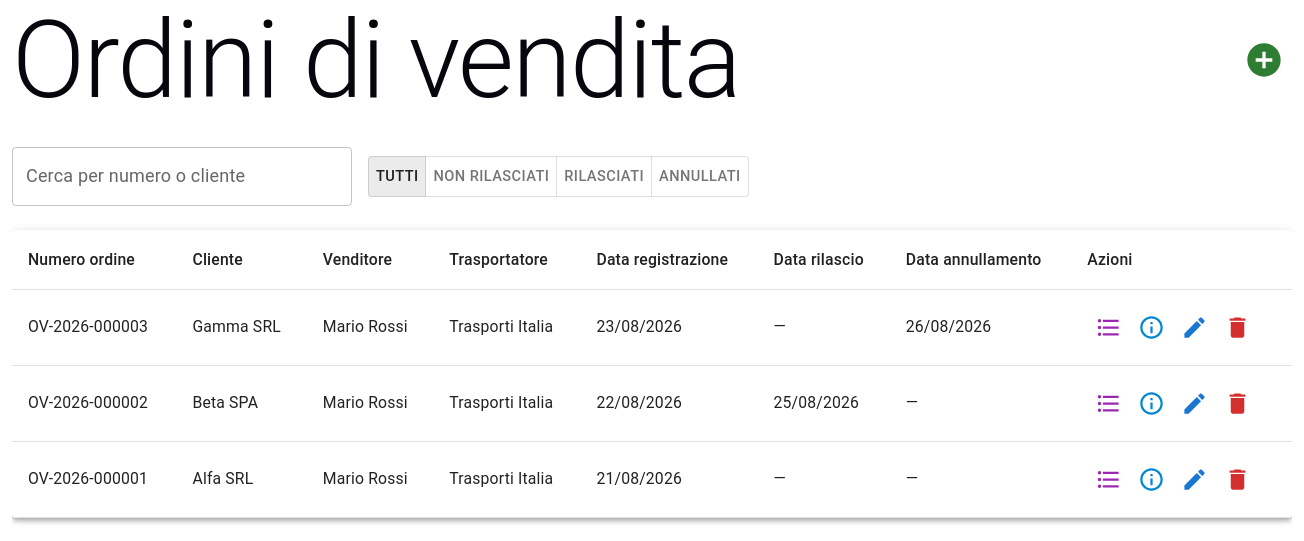
Test case: OrdiniVendita › filtra gli ordini per stato
Check: the text "OV-2026-000001" is shown, box [12,441,176,517]
Click the button "Non rilasciati".
click(491, 176)  # box [426,156,557,197]
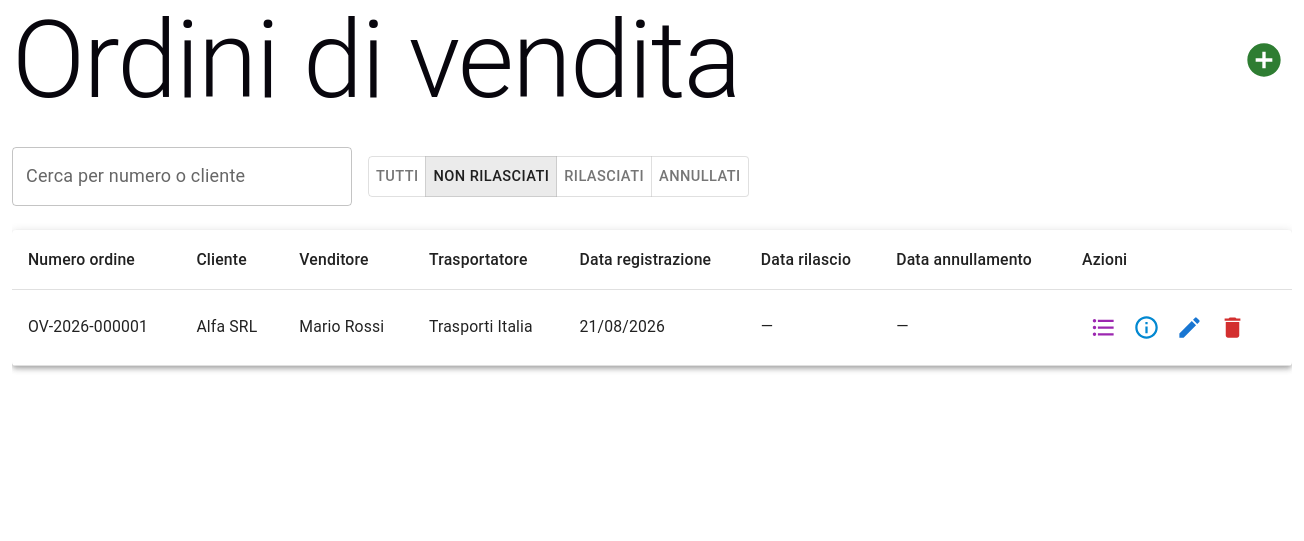
Check: the text "OV-2026-000001" is shown, box [12,289,180,365]
Check: the text "OV-2026-000002" is gone
Check: the text "OV-2026-000003" is gone
Click the button "Rilasciati".
click(604, 176)  # box [556,156,652,197]
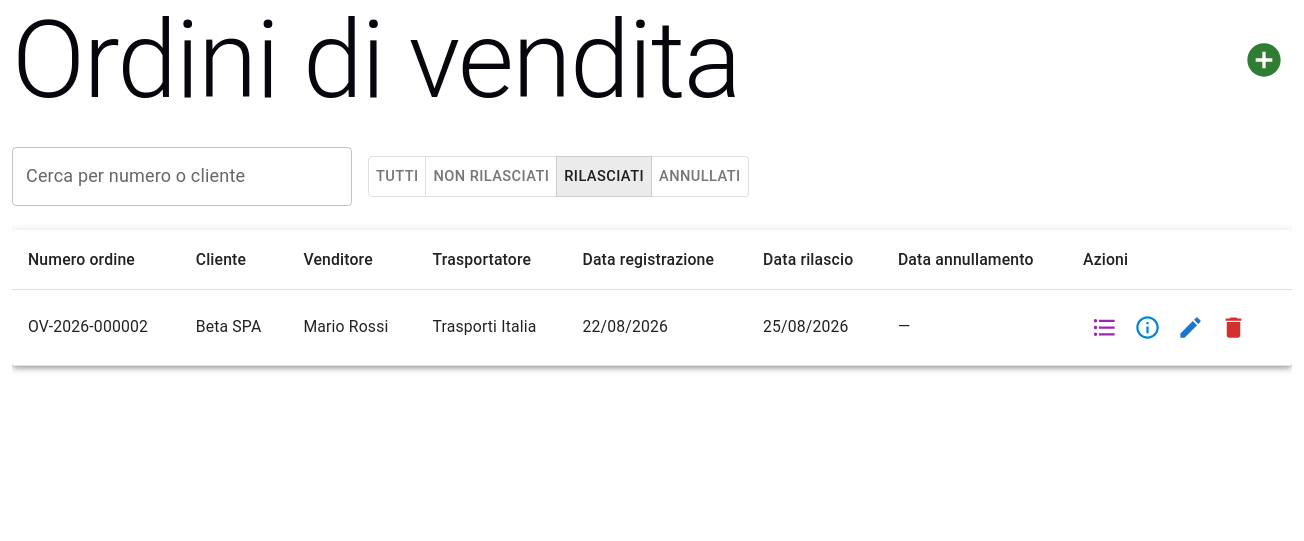
Check: the text "OV-2026-000003" is not shown
Check: the text "OV-2026-000001" is gone
Check: the text "OV-2026-000002" is shown, box [12,289,180,365]
Click the button "Annullati".
click(700, 176)  # box [651,156,749,197]
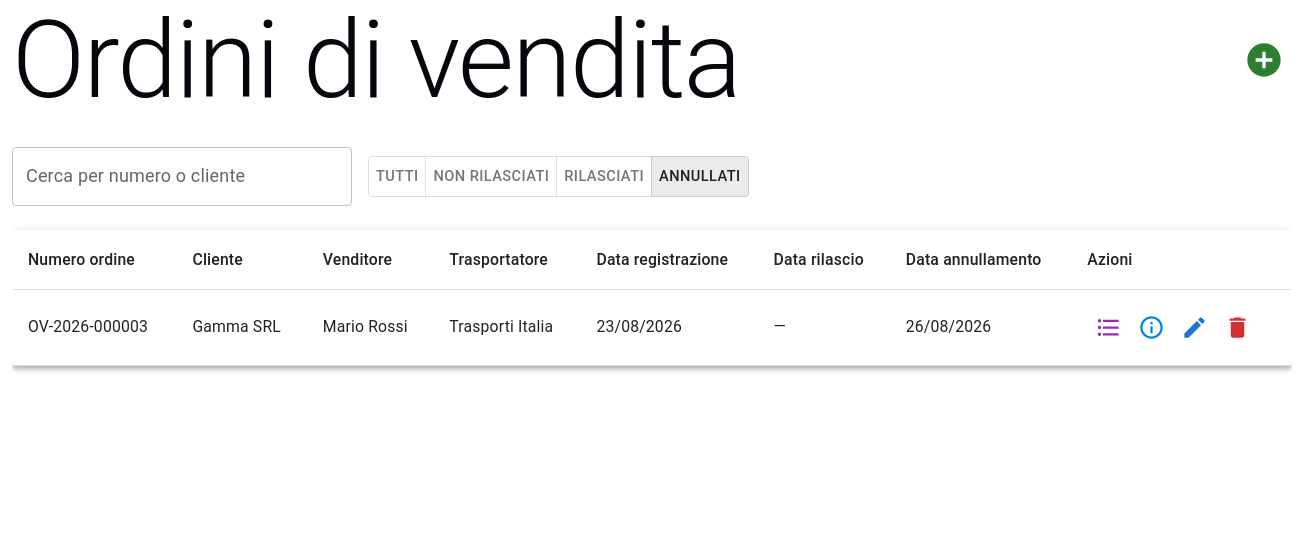
Check: the text "OV-2026-000001" is not shown
Check: the text "OV-2026-000002" is gone
Check: the text "OV-2026-000003" is shown, box [12,289,176,365]
Click the button "Tutti".
click(397, 176)  # box [368,156,426,197]
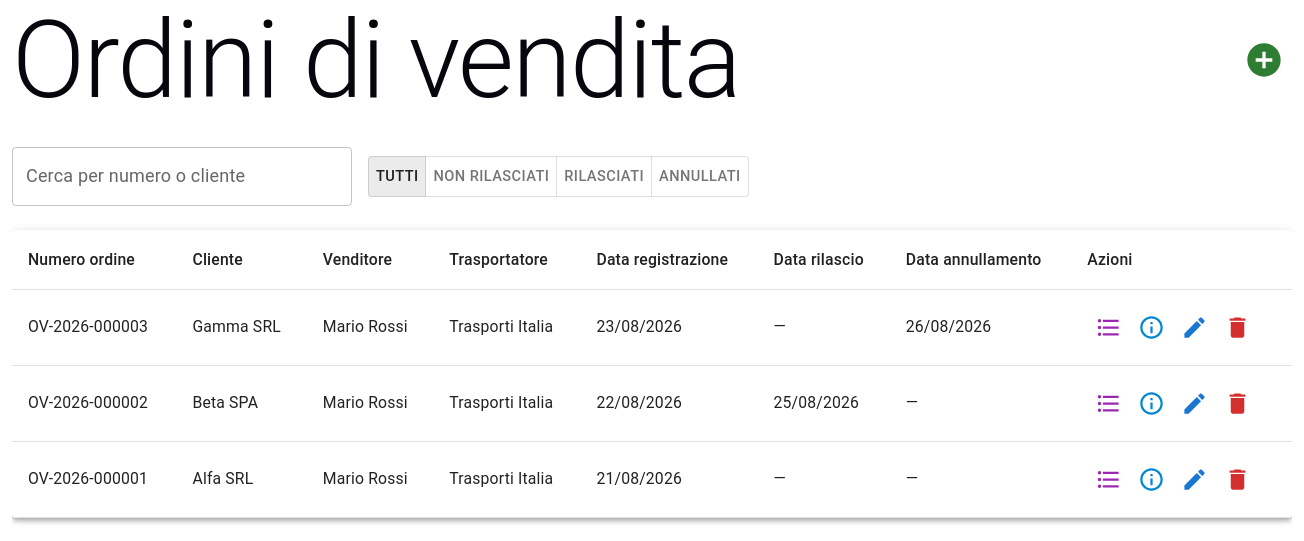
Check: the text "OV-2026-000003" is shown, box [12,289,176,365]
Check: the text "OV-2026-000001" is shown, box [12,441,176,517]
Check: the text "OV-2026-000002" is shown, box [12,365,176,441]
